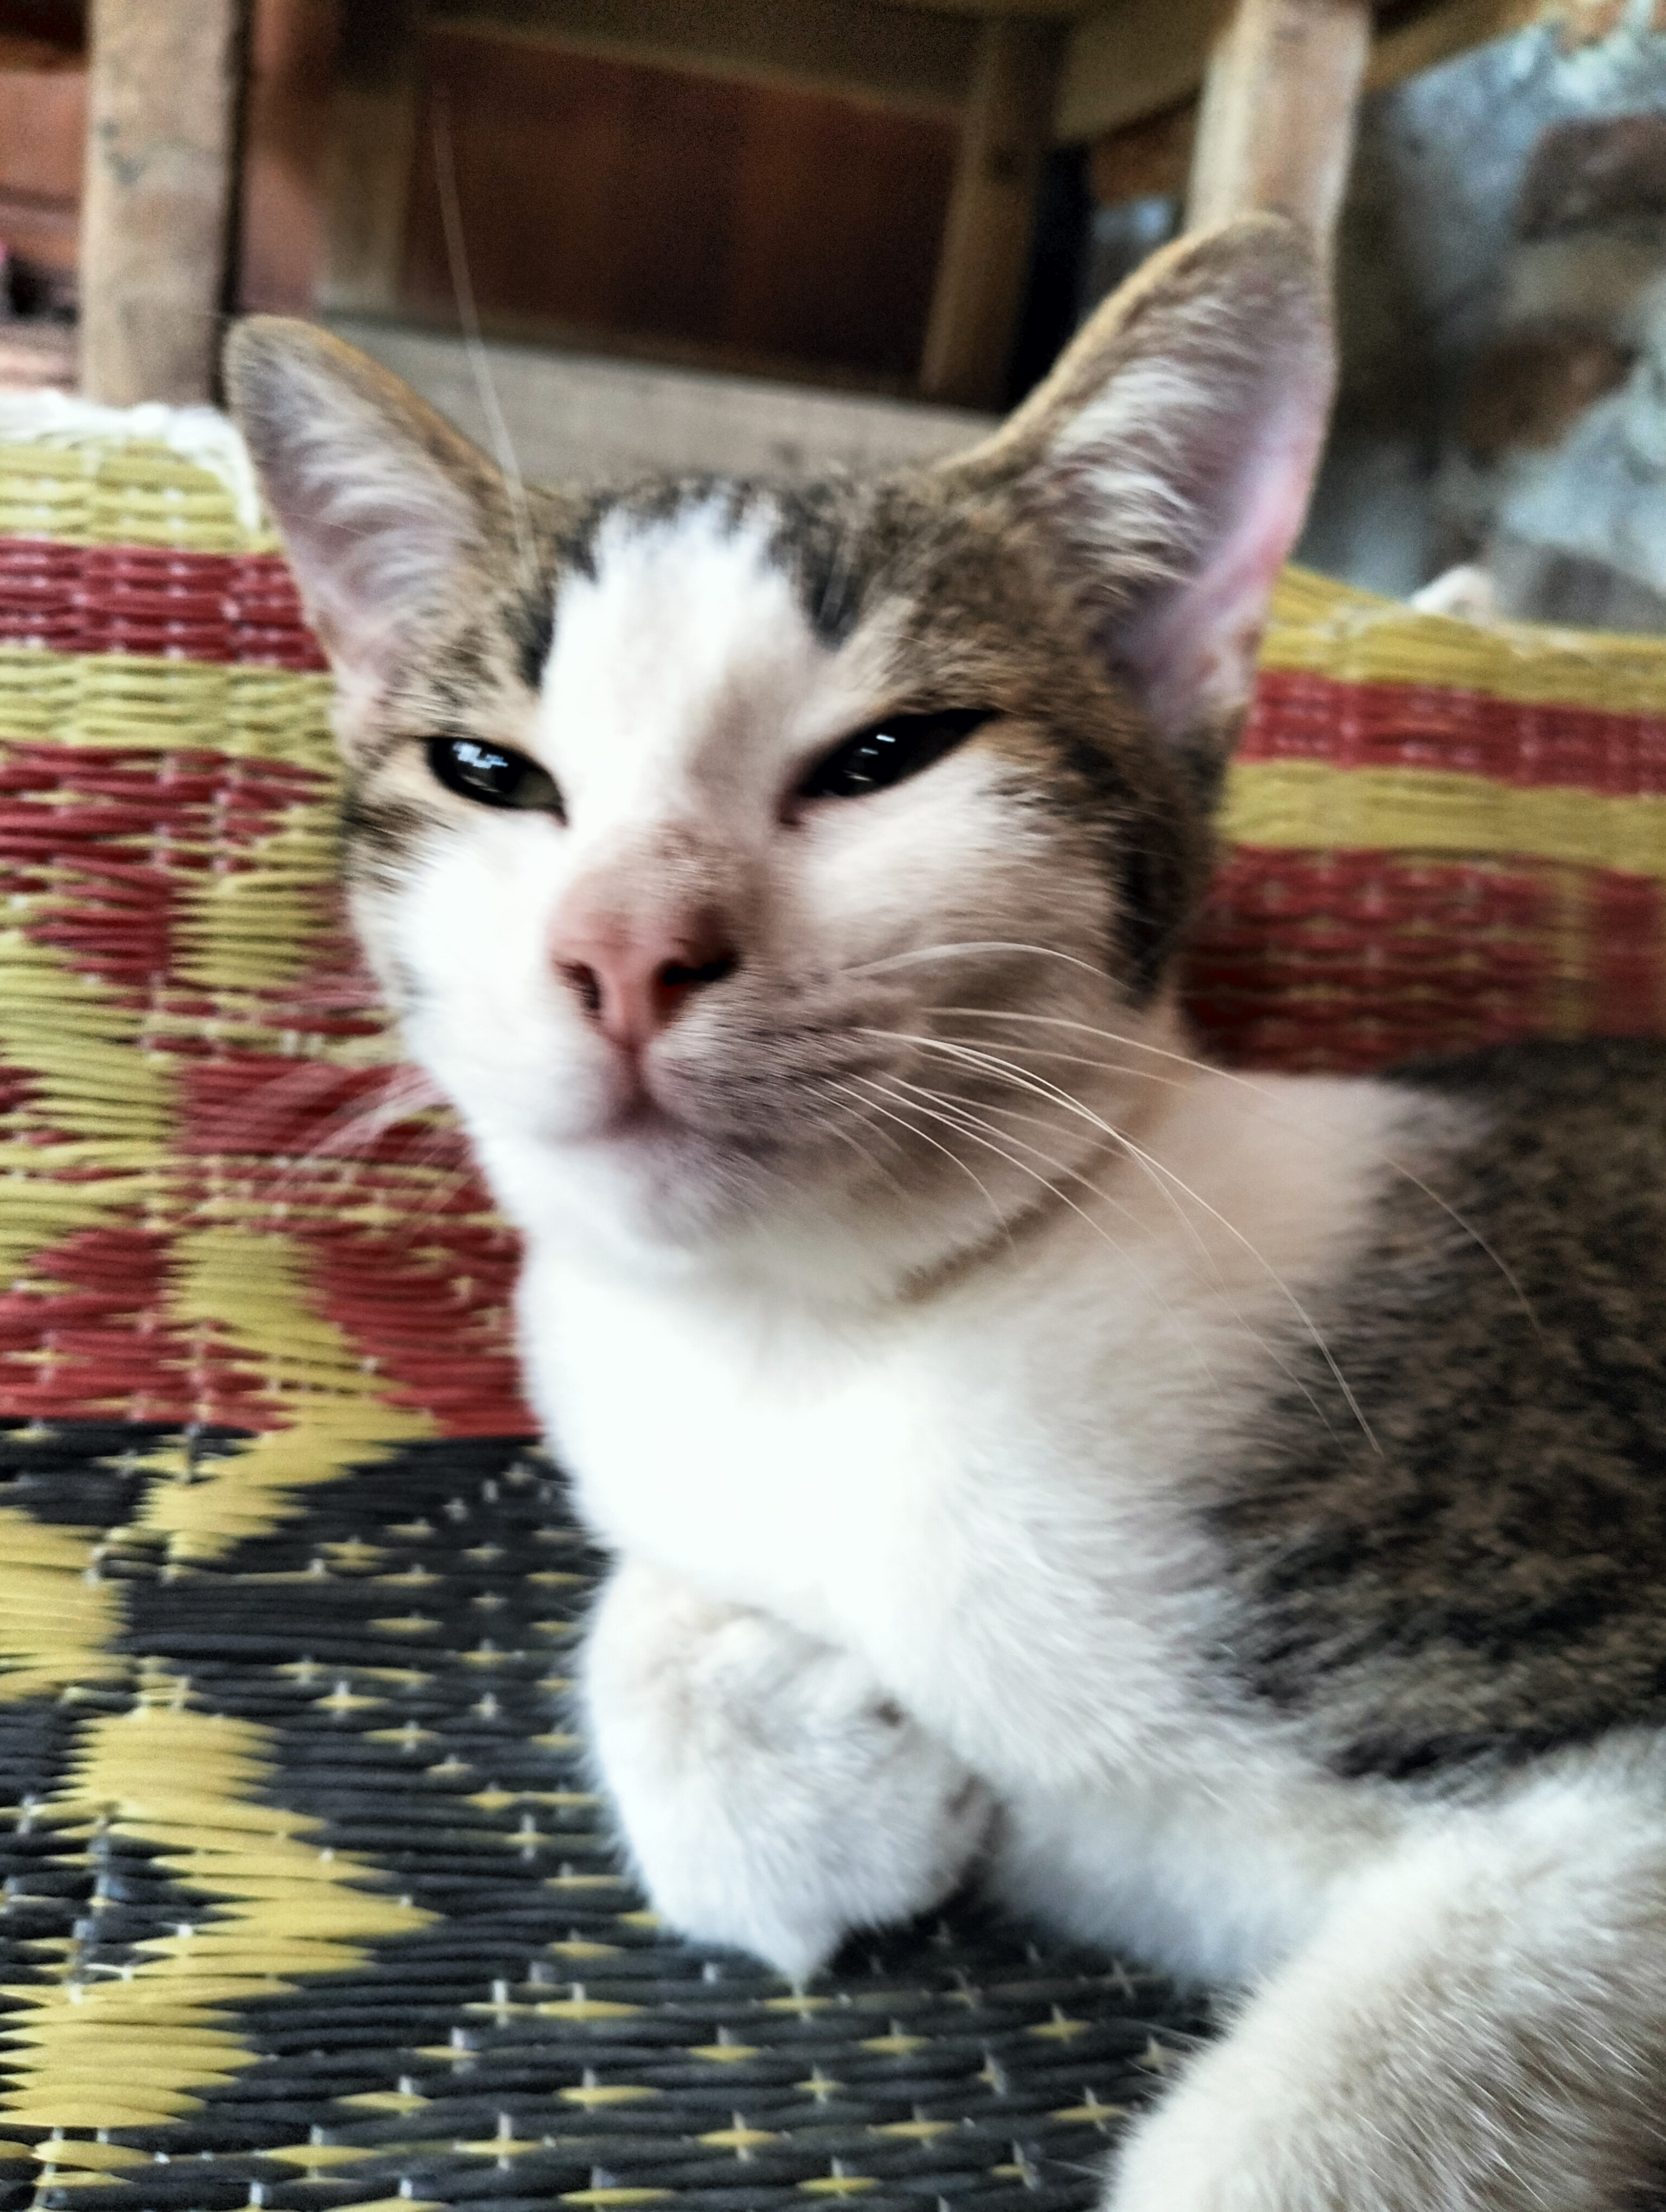miki: (159, 220, 1421, 1385)
